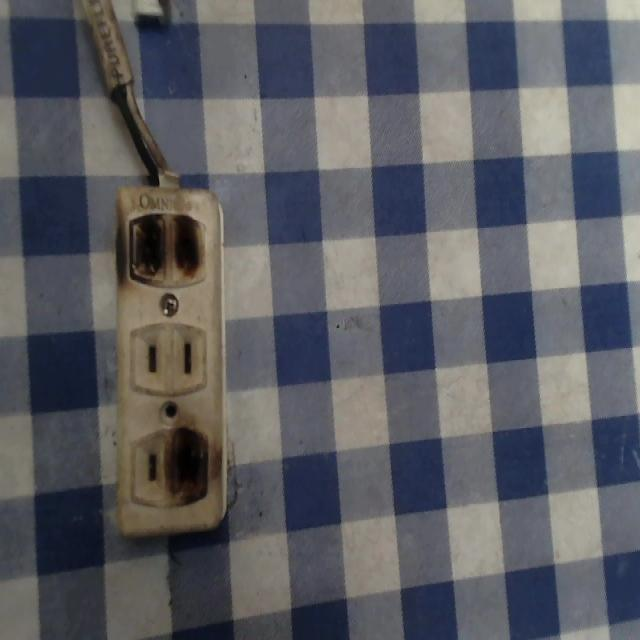-: (111, 197, 214, 284)
